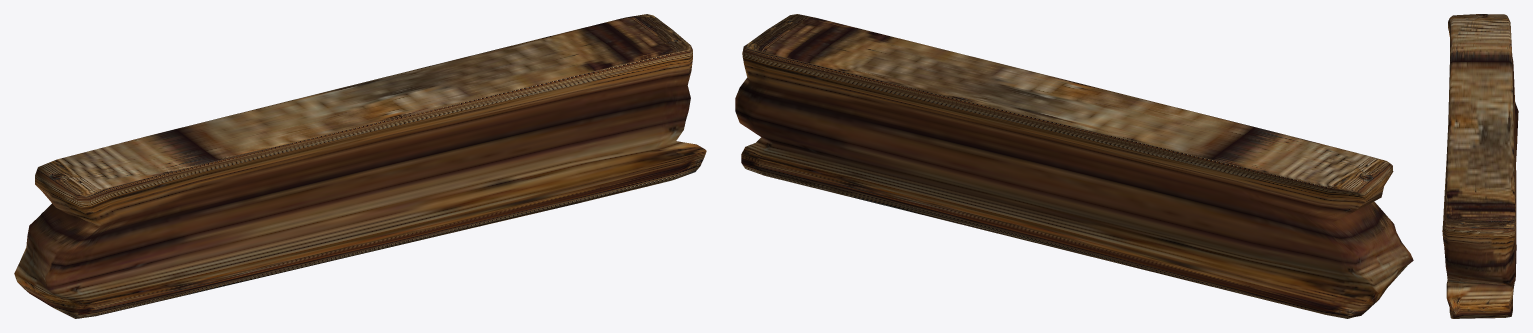
The model's file is Button_1x02.glb.
3 views of the same model, side by side, from view 1: azimuth 30°, elevation 25°; view 2: azimuth 150°, elevation 25°; view 3: azimuth 270°, elevation 25° (orthographic). The views are drawn at different scales.
Visible parts, largest first — view 1: 1х0.2; view 2: 1х0.2; view 3: 1х0.2.
Part boxes in pixels (x1,y1,x2,y2): 1х0.2: (14, 14, 706, 318); 1х0.2: (735, 14, 1413, 318); 1х0.2: (1442, 14, 1518, 318).
Size of the model in its own units: 2.09 by 0.408 by 0.2972.
Materials: 1 (1 with a texture image).
